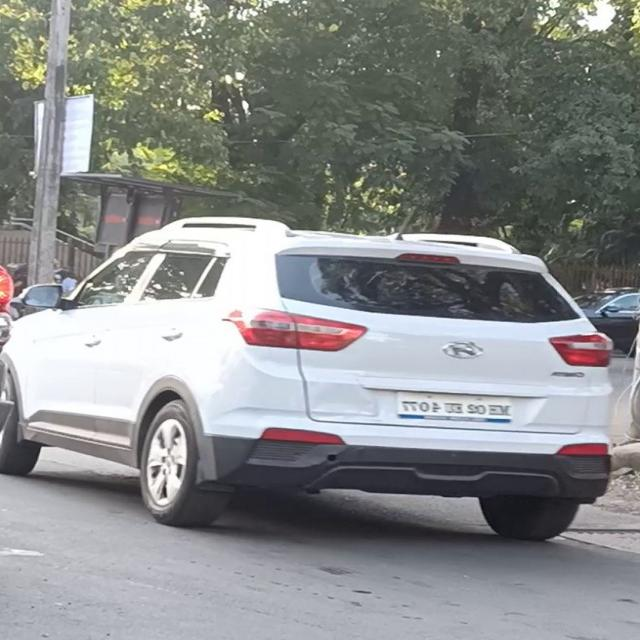license_plate: (390, 390, 519, 429)
